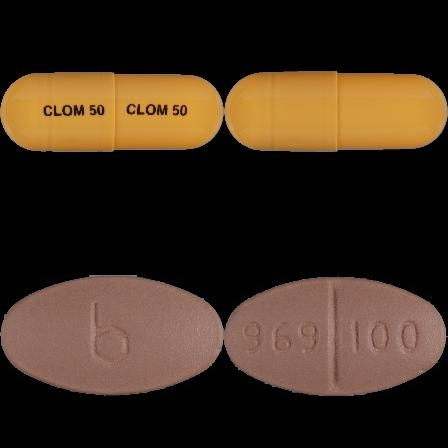63629-4123: (0, 0, 224, 224)
